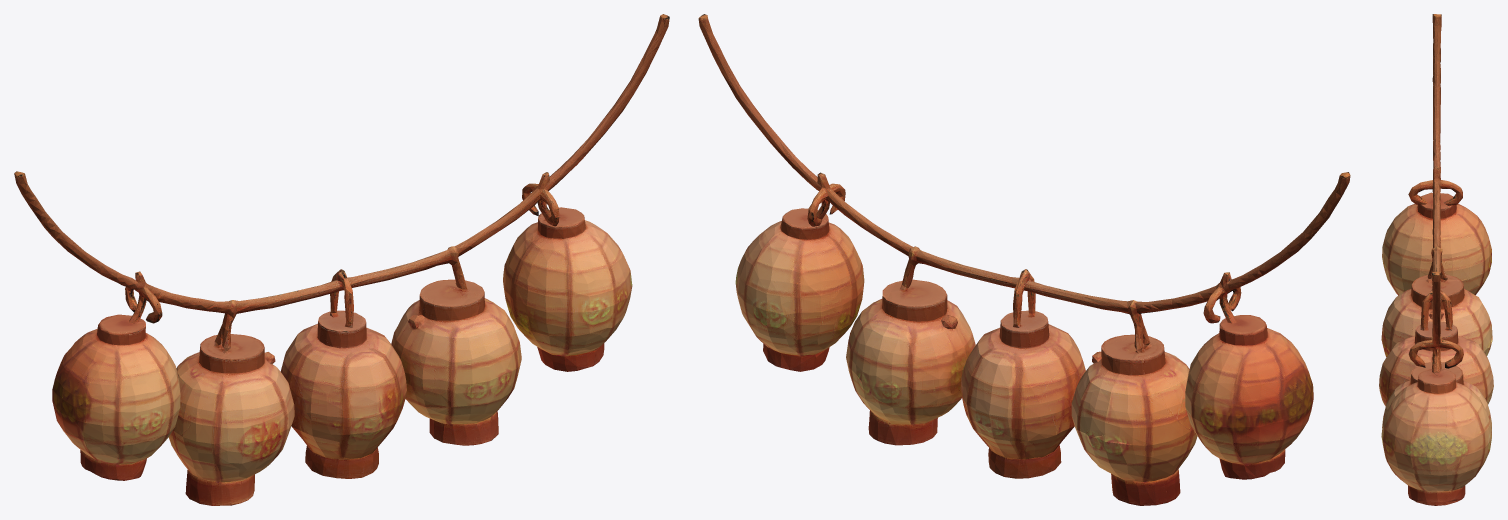
Rendered from s3_deco_paper_lantern_street.glb.
The picture shows the model from 3 angles, left to right: view 1: azimuth 30°, elevation 25°; view 2: azimuth 150°, elevation 25°; view 3: azimuth 270°, elevation 25°; orthographic projection. The views are drawn at different scales.
Parts seen in each view (by area): view 1: world; view 2: world; view 3: world.
Boxes of the visible parts, <box> form: world: <box>14,14,669,505</box>; world: <box>698,14,1350,505</box>; world: <box>1379,14,1493,505</box>.
Size of the model in its own units: 1 by 0.5423 by 0.186.
Materials: 1 (1 with a texture image).
